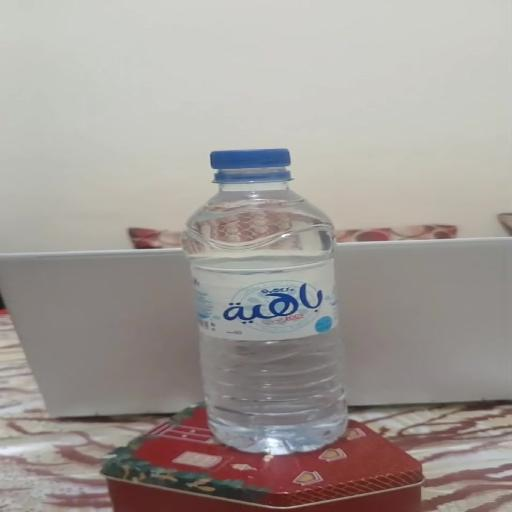bouteille non conformite: (164, 138, 338, 200)
